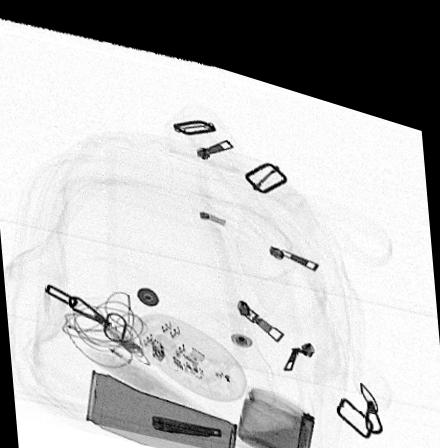Bullet: (294, 394, 315, 448)
